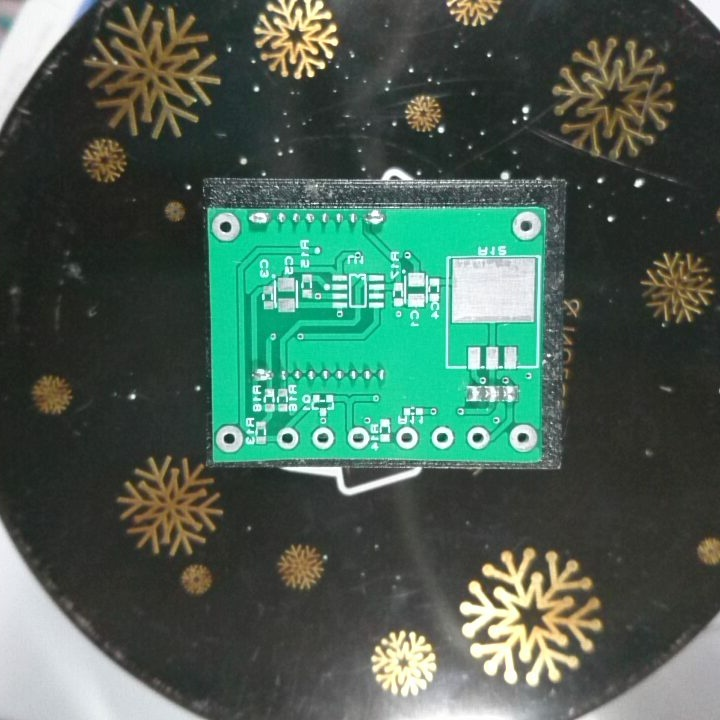F: (208, 209, 244, 243), (508, 208, 542, 243), (214, 422, 245, 455), (508, 422, 539, 454), (429, 423, 455, 451), (310, 423, 337, 449), (274, 425, 301, 450), (394, 425, 421, 450), (465, 423, 490, 449), (345, 423, 368, 451)
P: (360, 207, 386, 229), (245, 209, 274, 228), (250, 366, 274, 383)
